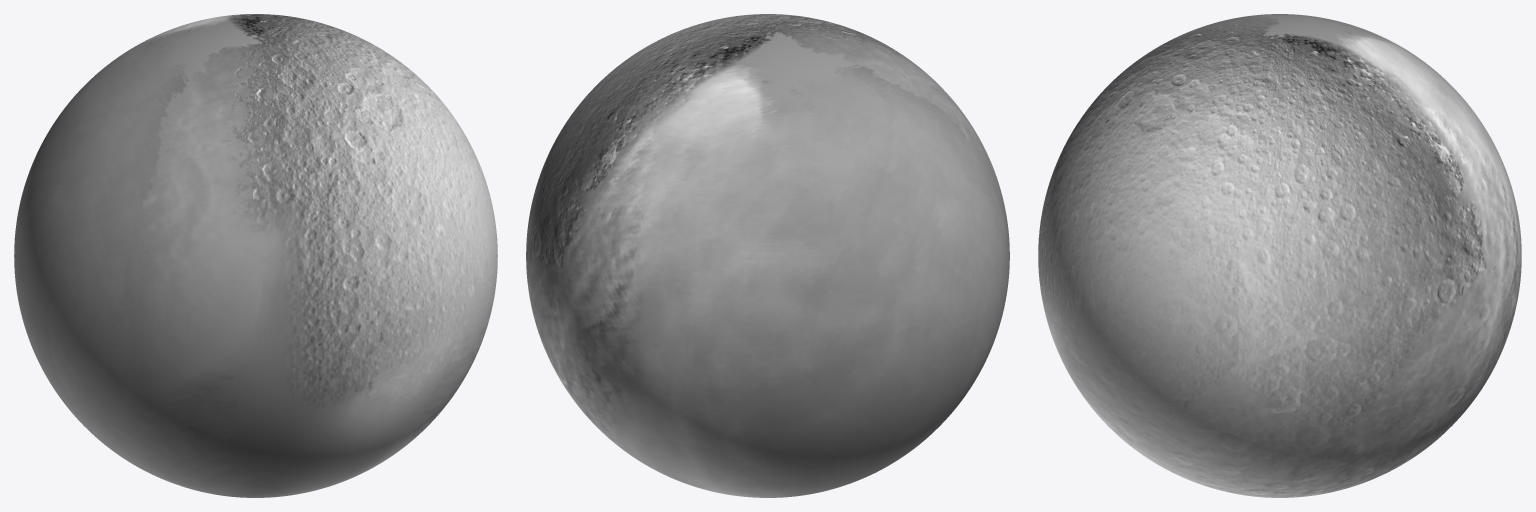
Rendered from rhea.glb.
3 views of the same model, side by side, from view 1: azimuth 30°, elevation 25°; view 2: azimuth 150°, elevation 25°; view 3: azimuth 270°, elevation 25° (orthographic).
Parts seen in each view (by area): view 1: Rhea_Asset; view 2: Rhea_Asset; view 3: Rhea_Asset.
Part boxes in pixels (box(x1,y1,x2,y2)): Rhea_Asset: box(14, 14, 497, 497); Rhea_Asset: box(526, 14, 1009, 497); Rhea_Asset: box(1038, 14, 1521, 497).
Size of the model in its own units: 0.3994 by 0.4 by 0.3994.
Materials: 1 (1 with a texture image).
